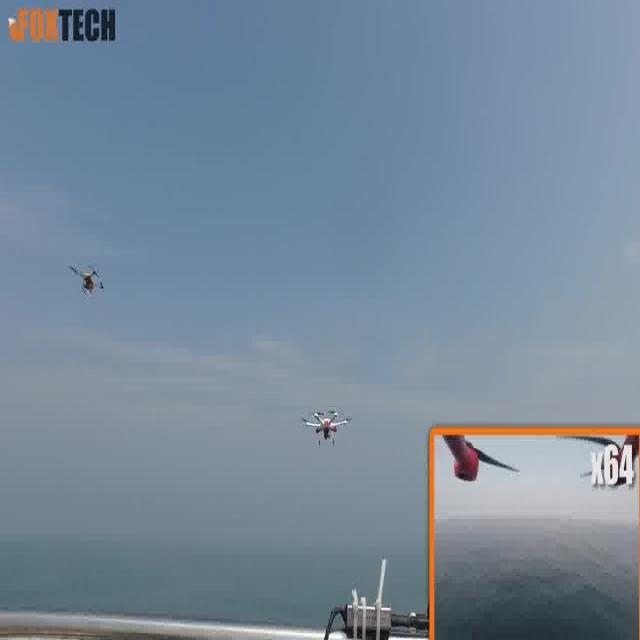Drone_FW: (298, 406, 357, 452), (66, 257, 108, 305)
